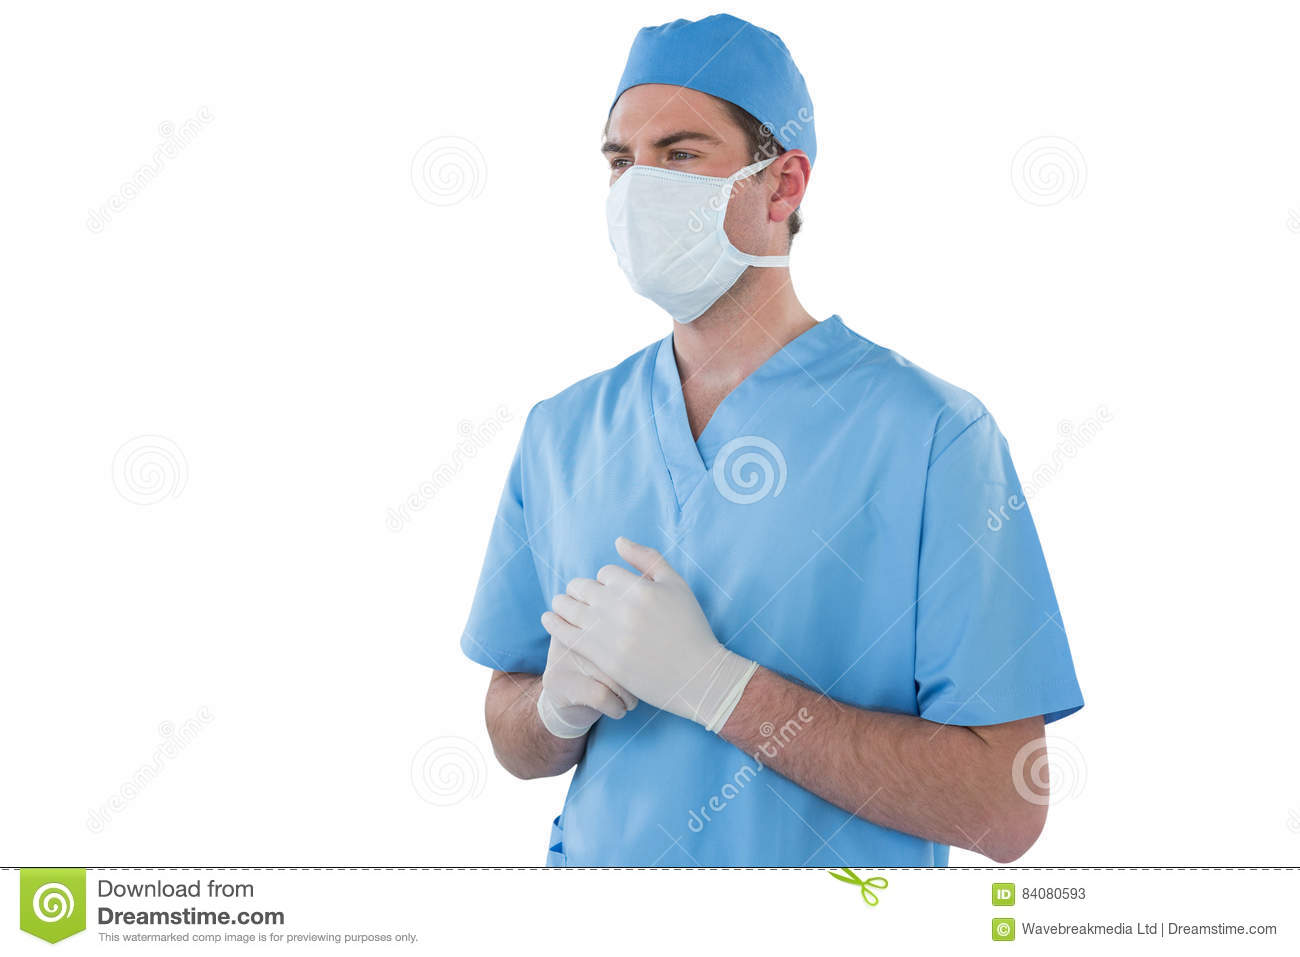mask: (586, 169, 742, 301)
